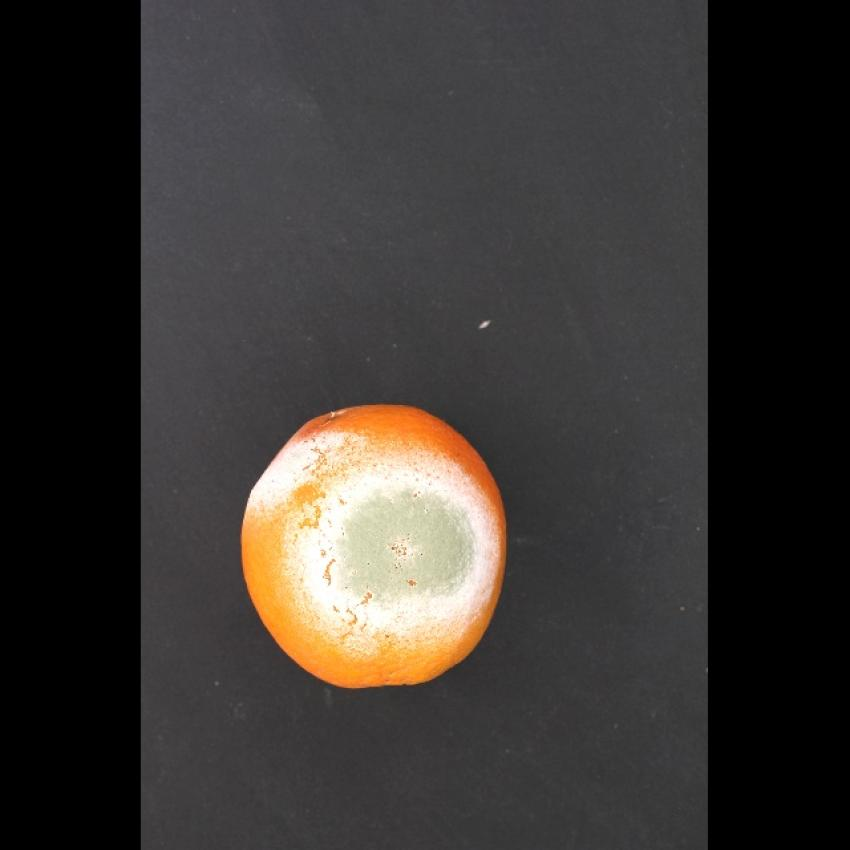Mal estado: (226, 388, 518, 690)
